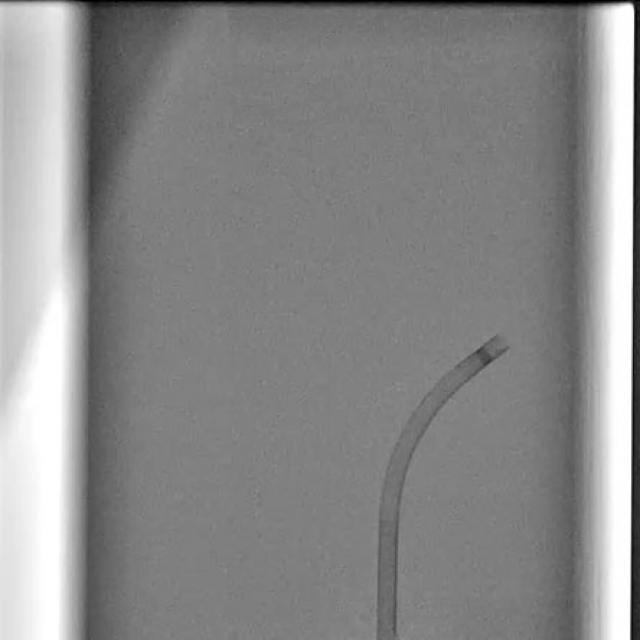bend: (379, 506, 400, 521)
entry: (378, 634, 397, 640)
marker: (474, 345, 496, 367)
tip: (498, 334, 510, 349)
